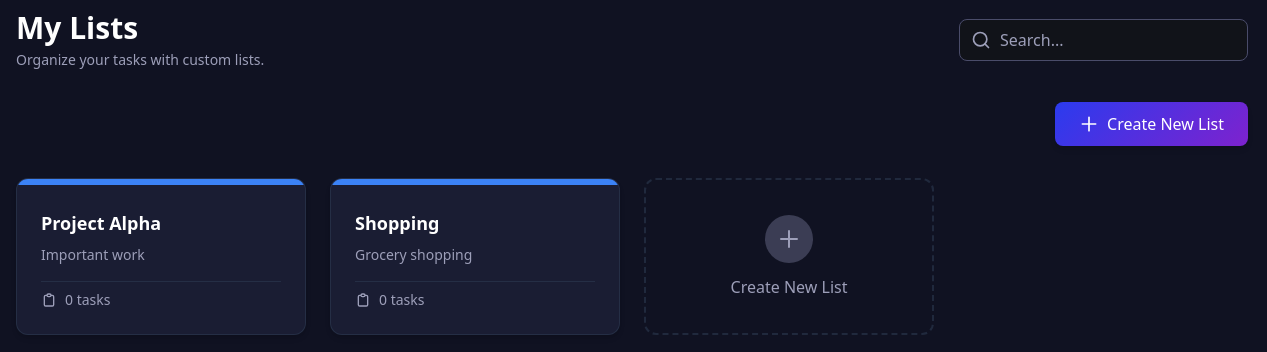
ListsContainer - Integration Tests › should search in both title and description
Note: Search by description keyword
Step 1. Type "shopping" into the field with placeholder "Search..." → x=1104, y=40, box [959,19,1248,61]
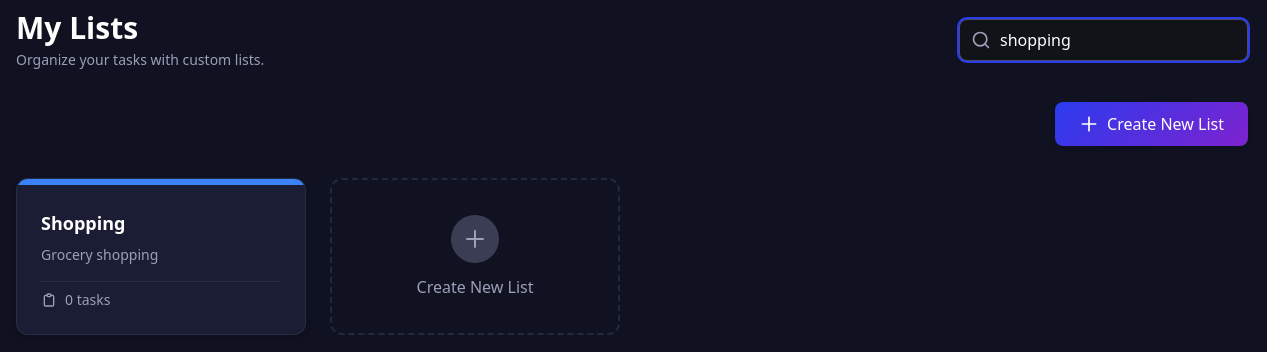
Check: the heading "Shopping" is shown, box [41,211,125,235]
Check: the button "Project Alpha" is gone
